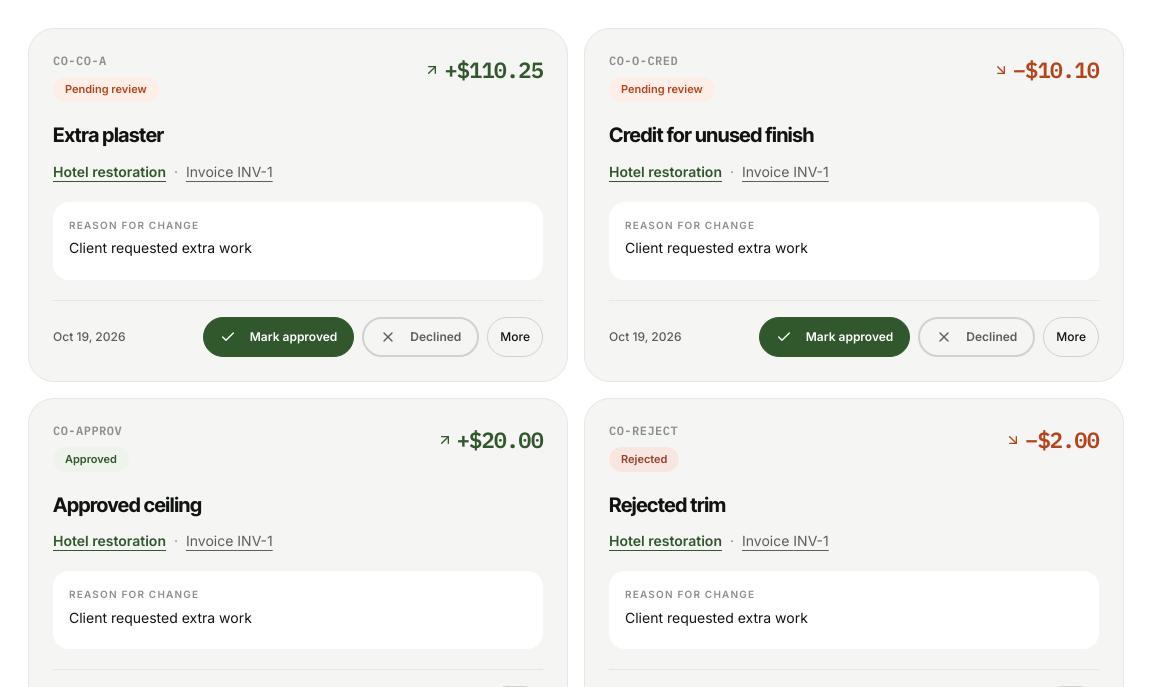
Scenario: Change Orders redesign › keeps failed approvals pending and supports retry
(page scrolled)
Expected: the element with test id "row-co-co-add" is shown, left=28, top=28, right=568, bottom=382
Click the button with test id "button-mark-approved-co-co-add" at point(278, 337), box left=203, top=317, right=354, bottom=357
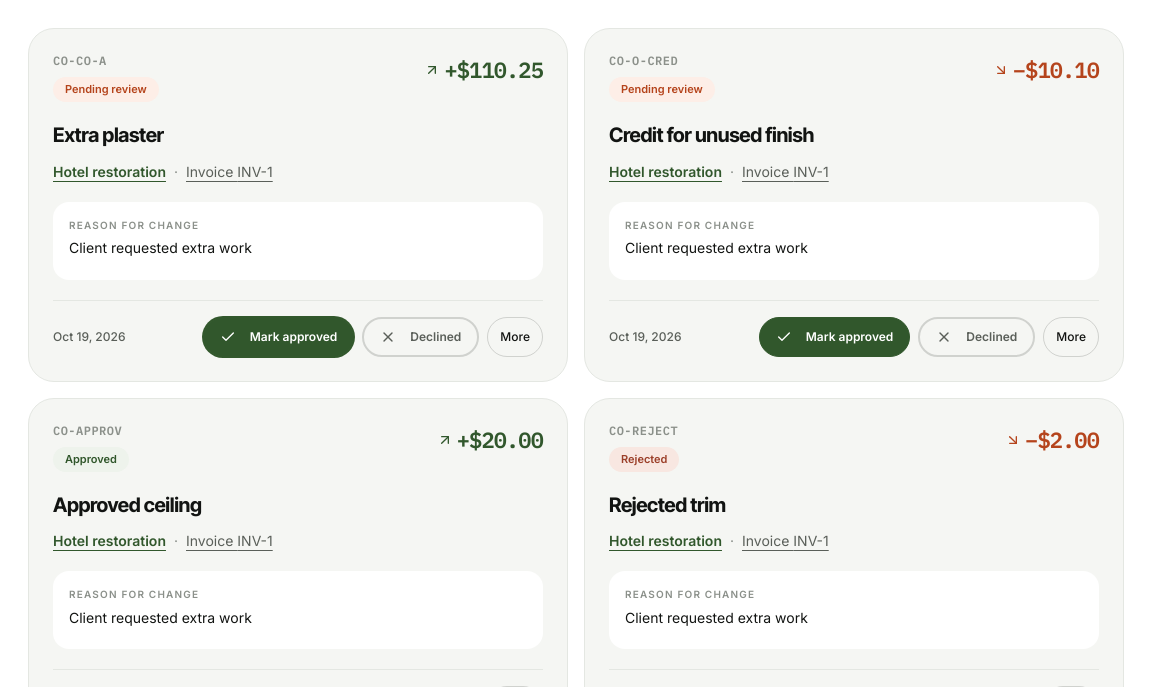
Expected: the text with test id "status-co-co-add" shows "Pending", left=65, top=82, right=147, bottom=96
Click the button with test id "button-mark-approved-co-co-add" at point(278, 337), box left=203, top=317, right=354, bottom=357
(page scrolled)
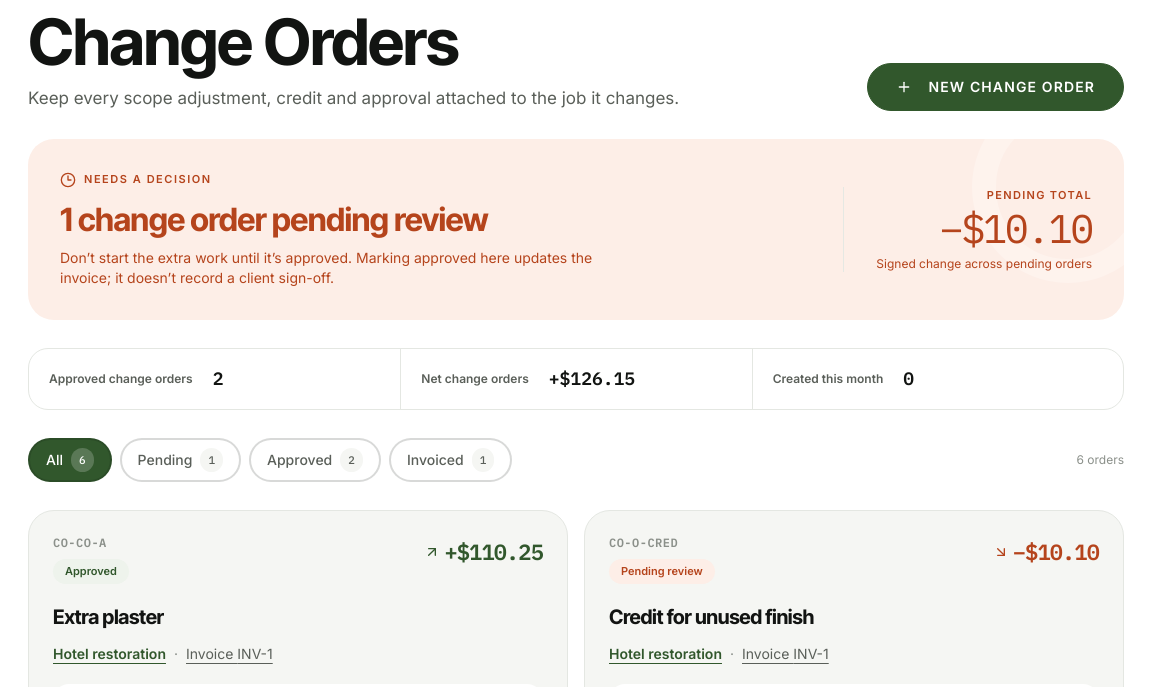
Now the text with test id "status-co-co-add" reads "Approved", box left=65, top=564, right=117, bottom=578
Now the text with test id "stat-co-pending-total" reads "−$10.10", box left=939, top=202, right=1092, bottom=254
